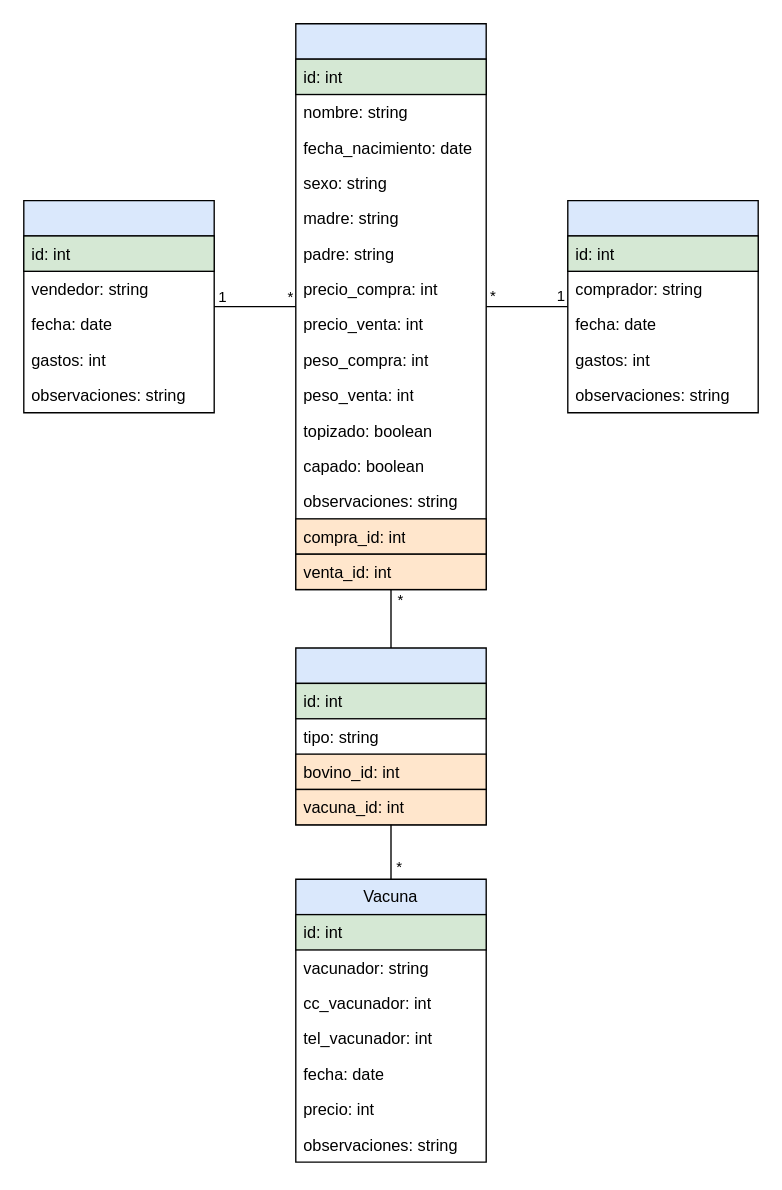
Some shapes in this 782 by 1190 pixel diagram are drawn without their labels. The shapes that lost their labels are listed below. From the top down, each one's box as (x1, y1, x2, y2) in pixels, then its label:
(22, 199, 214, 413): Compra
(294, 22, 486, 590): Bovino
(566, 199, 758, 413): Venta
(294, 647, 486, 825): VacunaBovino
